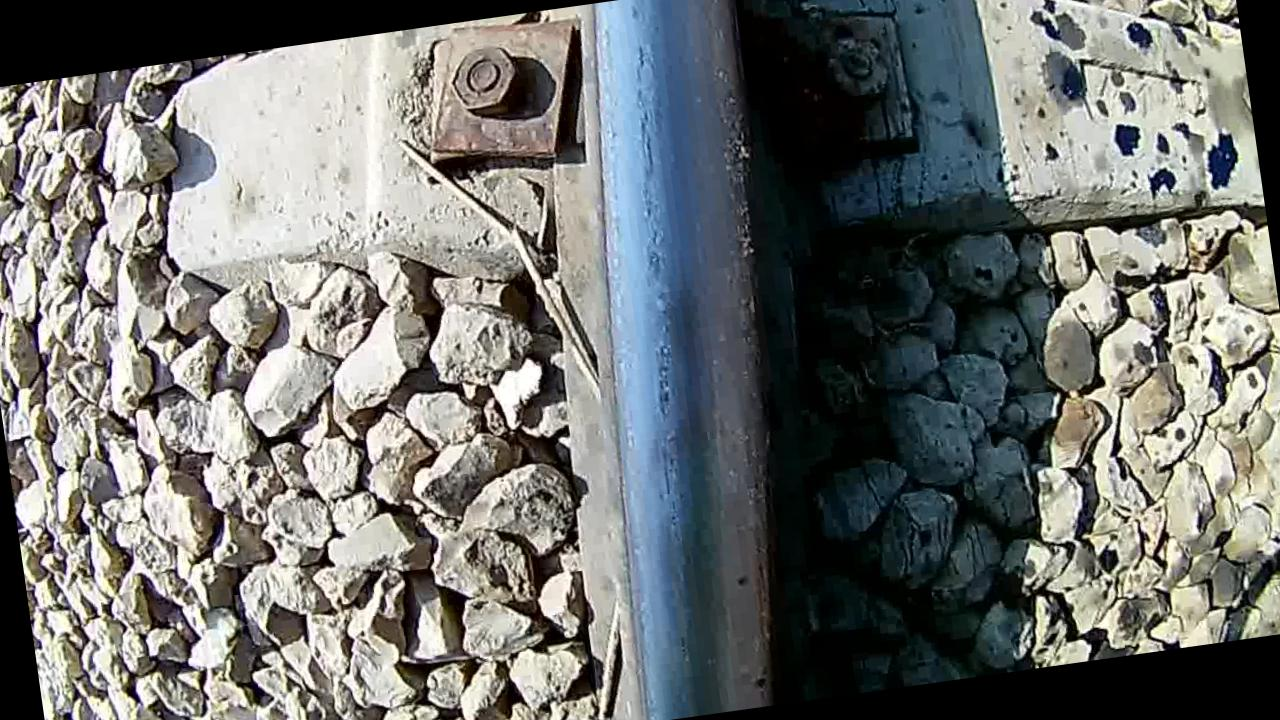crack: (575, 0, 842, 719)
